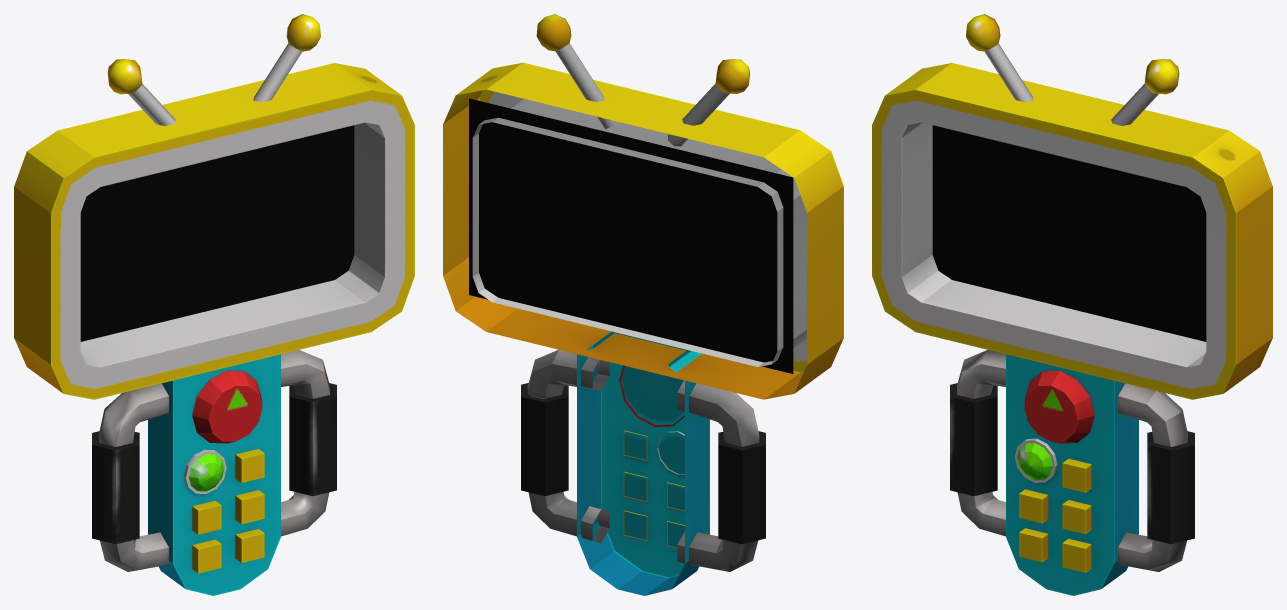
Rendered from scanner_05.fbx.
The picture shows the model from 3 angles, left to right: view 1: azimuth 30°, elevation 25°; view 2: azimuth 150°, elevation 25°; view 3: azimuth 330°, elevation 25°; orthographic projection.
Visible parts, largest first — view 1: scanner_05, screen_05; view 2: scanner_05, screen_05; view 3: scanner_05, screen_05.
Boxes of the visible parts, x1,y1,x2,y2 form: scanner_05: [14, 14, 414, 595]; screen_05: [80, 125, 354, 341]; scanner_05: [443, 14, 843, 595]; screen_05: [469, 98, 793, 373]; scanner_05: [872, 14, 1272, 595]; screen_05: [932, 125, 1206, 341].
Bounding box in the file's own units: 22.01 × 31.57 × 4.17.
